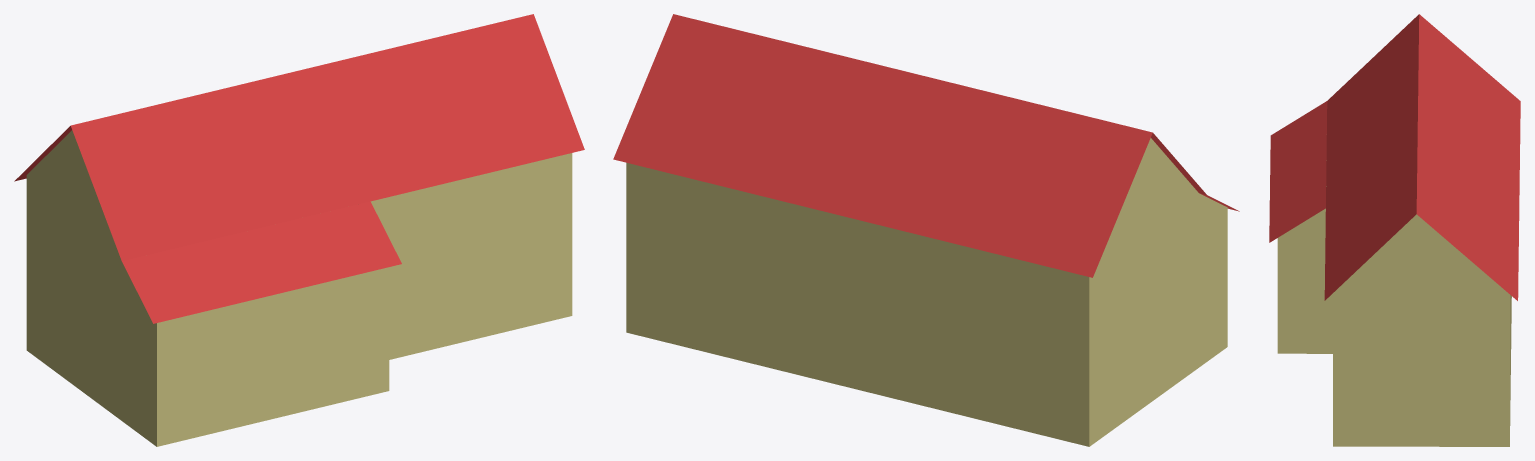
3 views of the same model, side by side, from view 1: azimuth 30°, elevation 25°; view 2: azimuth 150°, elevation 25°; view 3: azimuth 270°, elevation 25° (orthographic). The views are drawn at different scales.
Size of the model in its own units: 28.74 by 15.21 by 15.75.
